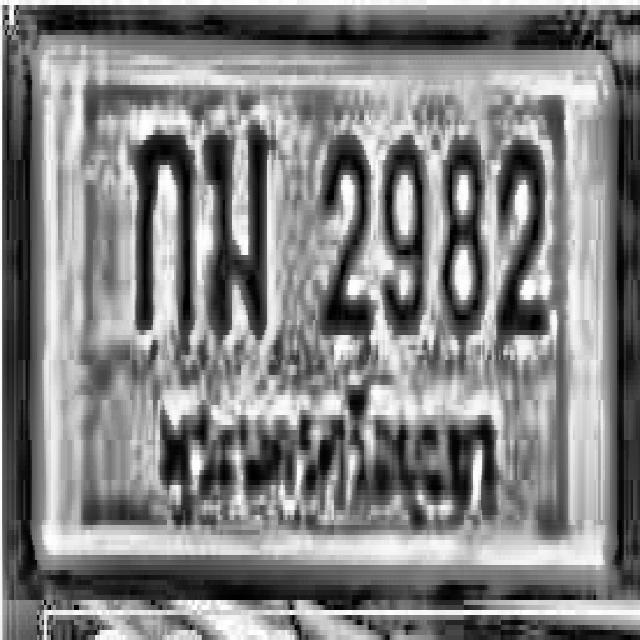license-plate: (21, 31, 624, 582)
